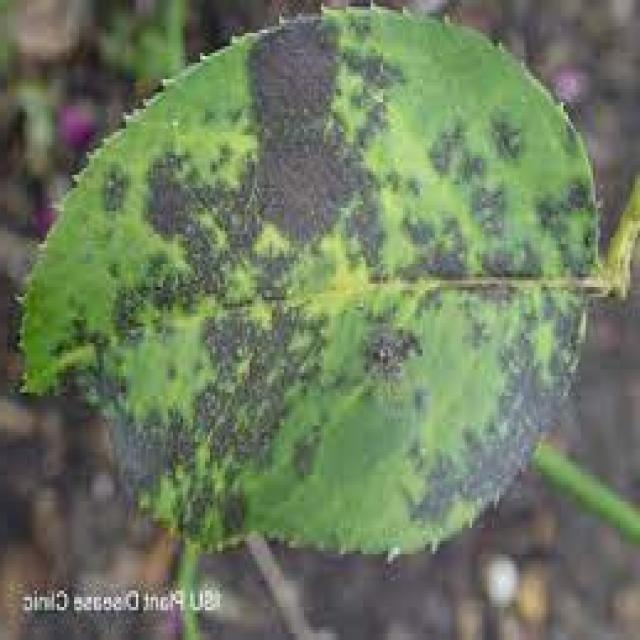black-spot: (139, 21, 420, 359)
